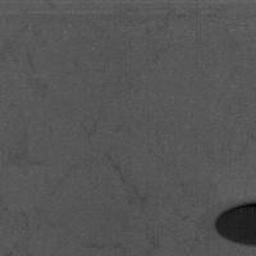Punching: (214, 201, 256, 247)
